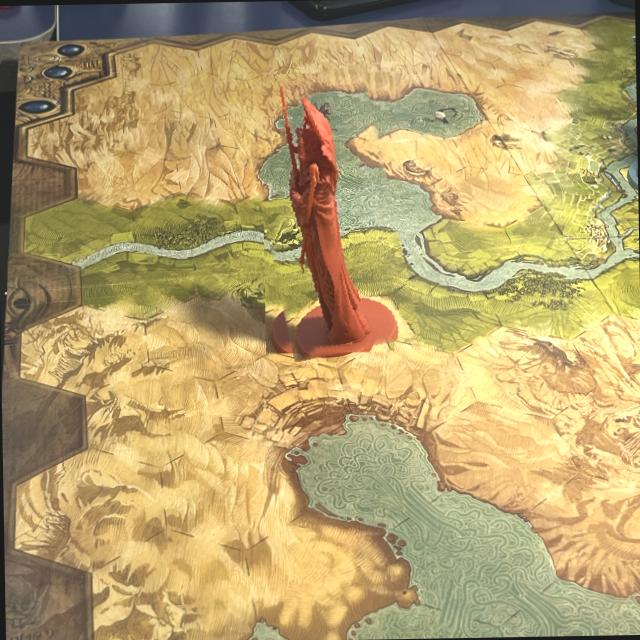amon: (248, 67, 407, 358)
